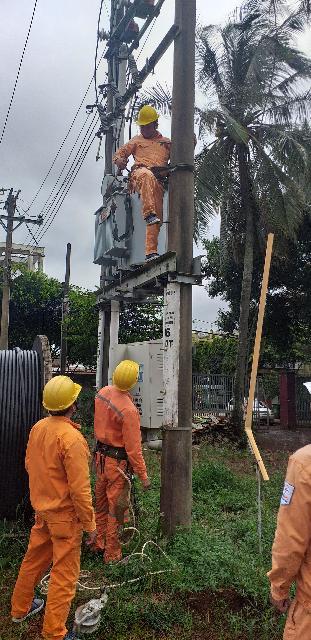gloves: (112, 156, 131, 171)
harness: (89, 432, 131, 466), (141, 158, 170, 188)
helmet: (40, 364, 79, 410), (114, 358, 141, 392), (132, 105, 159, 126)
shoes: (5, 596, 48, 621), (138, 247, 168, 268), (146, 210, 161, 227), (63, 629, 85, 640)
